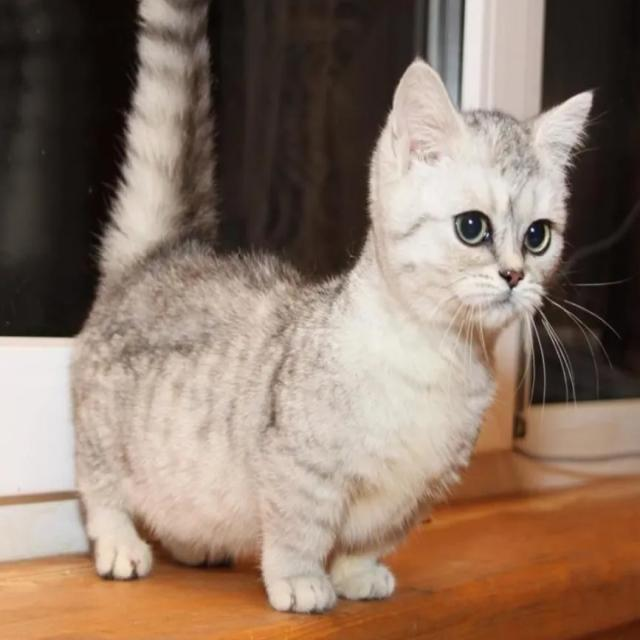Munchkin: (66, 0, 598, 617)
